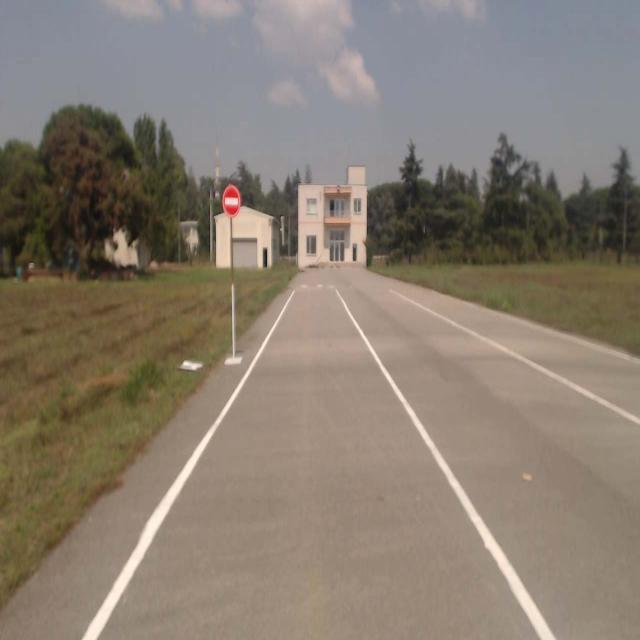girisyok: (222, 187, 240, 217)
